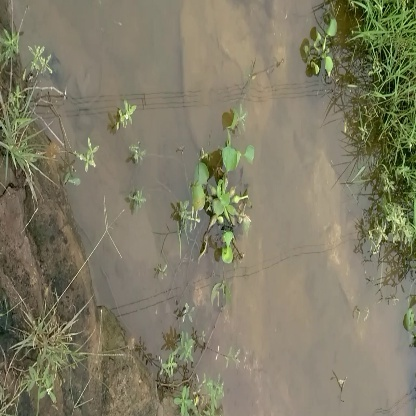leaf: (195, 141, 264, 268)
